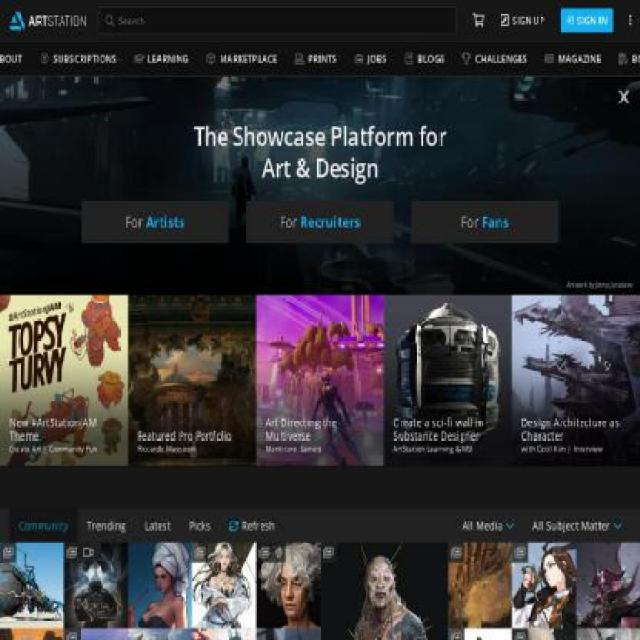button: (0, 294, 129, 468), (127, 295, 256, 467), (384, 295, 513, 467), (256, 295, 384, 467), (512, 295, 639, 468), (246, 200, 394, 243), (82, 200, 229, 243), (411, 200, 558, 243), (523, 508, 631, 544), (31, 41, 126, 76), (197, 41, 286, 76), (452, 41, 537, 76), (535, 41, 611, 76), (452, 508, 525, 544), (125, 41, 198, 76), (9, 508, 77, 544), (491, 1, 552, 41), (220, 508, 286, 544), (320, 618, 448, 636), (286, 41, 346, 76), (77, 508, 135, 544), (395, 41, 453, 76), (344, 41, 396, 76), (135, 508, 180, 544), (9, 11, 86, 31), (179, 508, 221, 544), (559, 9, 613, 33), (0, 575, 65, 594), (0, 41, 32, 76), (609, 41, 640, 77), (255, 576, 320, 592), (64, 576, 128, 592), (192, 576, 256, 592), (448, 576, 512, 592), (512, 576, 576, 592)
field: (98, 7, 456, 35)
